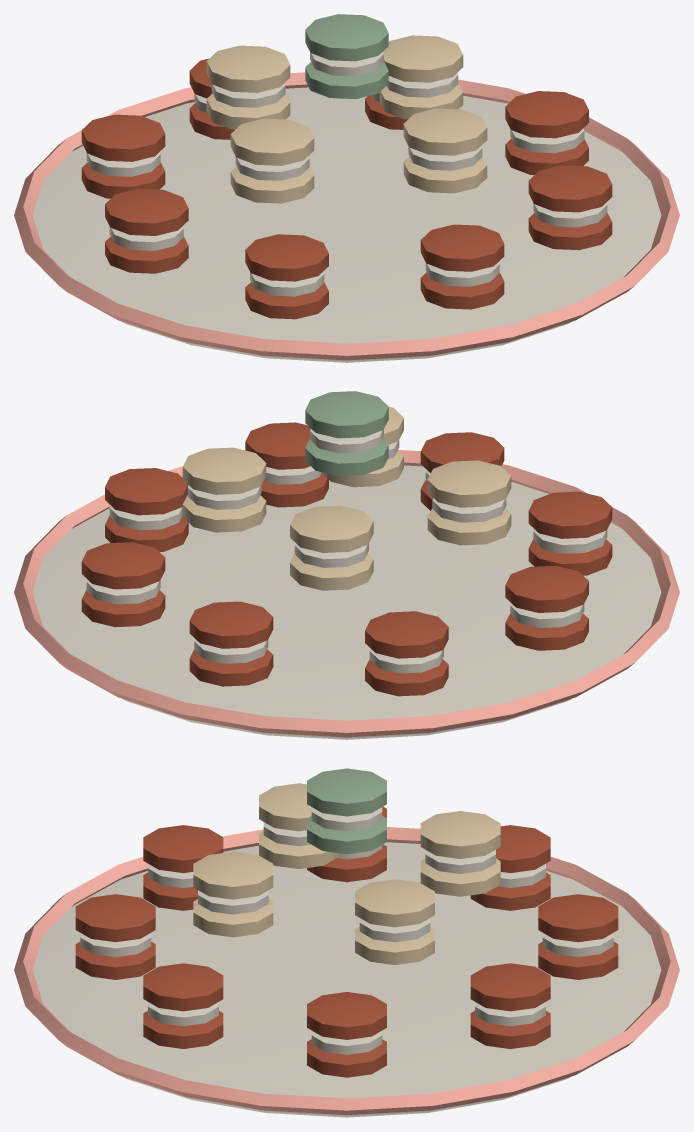
Rendered from macaron_plate.glb.
3 renders of one model, top to bottom at view 1: azimuth 30°, elevation 25°; view 2: azimuth 150°, elevation 25°; view 3: azimuth 270°, elevation 25°, orthographic.
Visible parts, largest first — view 1: macaron_plate; view 2: macaron_plate; view 3: macaron_plate.
Part boxes in pixels (x1,y1,x2,y2): macaron_plate: (14,14,679,362); macaron_plate: (14,391,679,739); macaron_plate: (14,768,679,1117).
Size of the model in its own units: 0.432 by 0.186 by 0.432.
